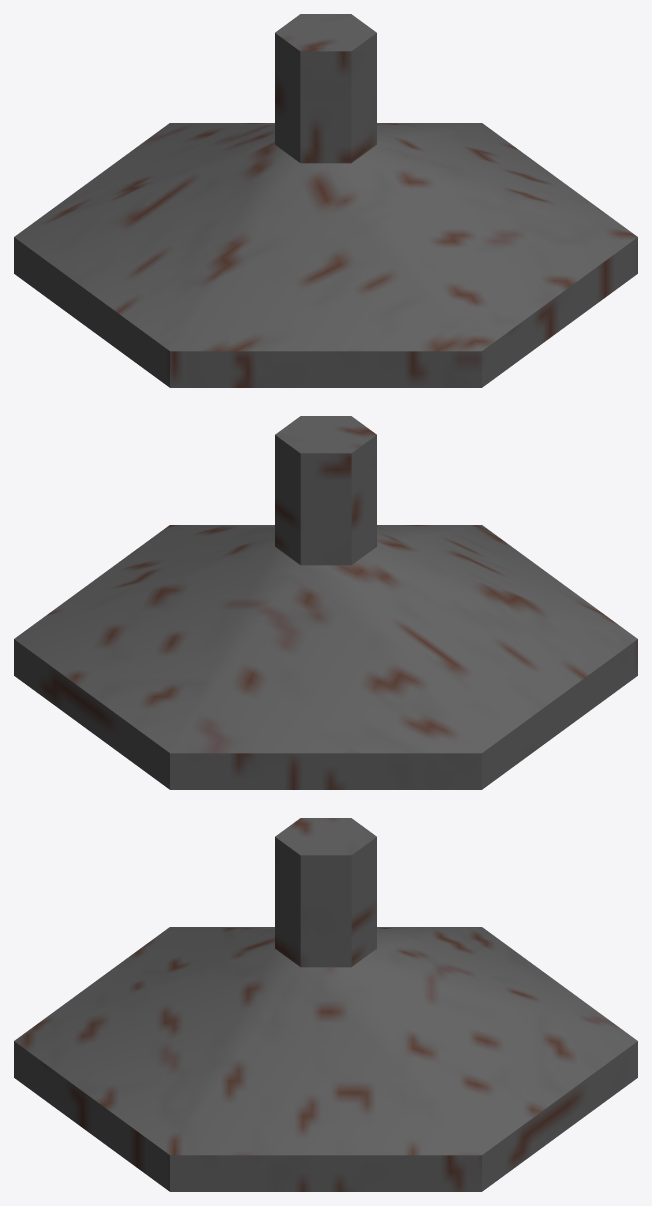
The model's file is Lamp.fbx.
3 views of the same model, one above another, from view 1: azimuth 30°, elevation 25°; view 2: azimuth 150°, elevation 25°; view 3: azimuth 270°, elevation 25° (orthographic).
Parts seen in each view (by area): view 1: Cube.036; view 2: Cube.036; view 3: Cube.036.
Part boxes in pixels (x1=…): Cube.036: x1=14, y1=14, x2=637, y2=387; Cube.036: x1=14, y1=416, x2=637, y2=789; Cube.036: x1=14, y1=818, x2=637, y2=1191.
Size of the model in its own units: 74.26 by 45.79 by 85.74.
